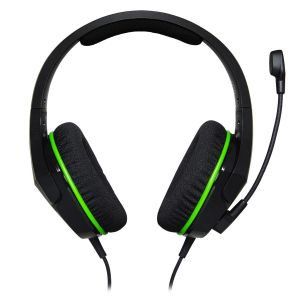headset: (29, 4, 288, 282)
